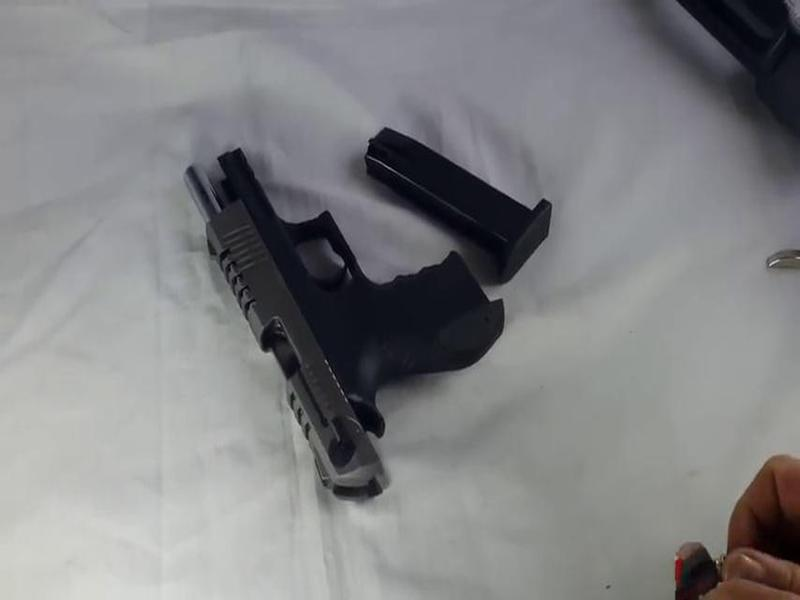Pistola: (174, 138, 519, 503)
